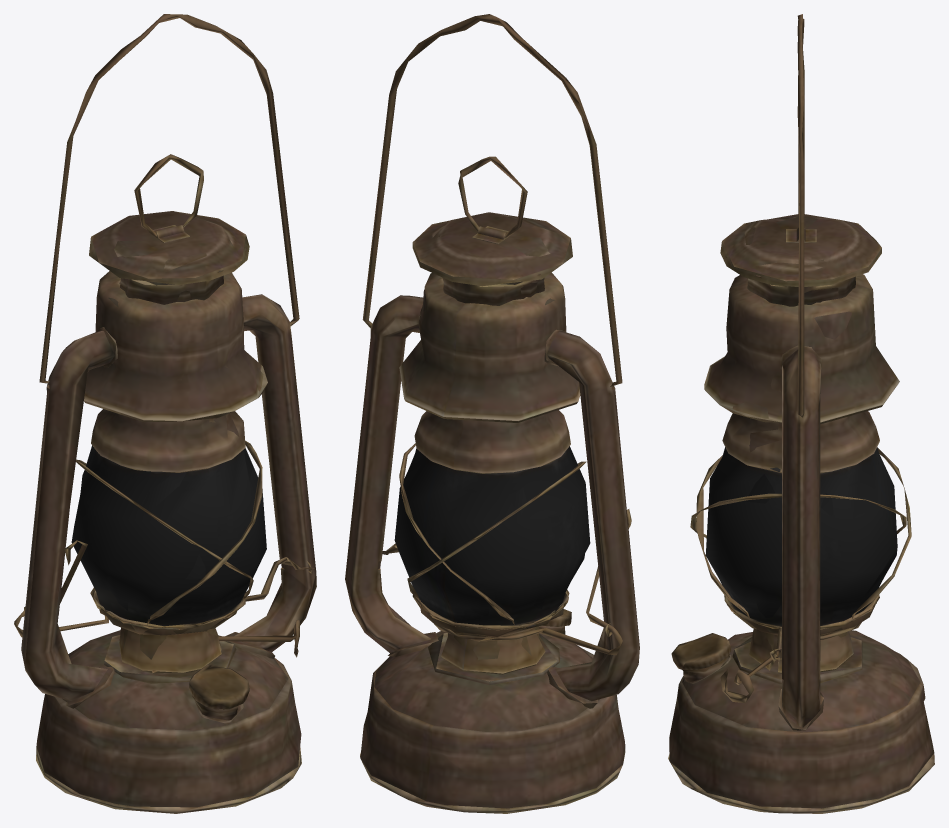
File: Lantern_01.glb
3 renders of one model, left to right at view 1: azimuth 30°, elevation 25°; view 2: azimuth 150°, elevation 25°; view 3: azimuth 270°, elevation 25°, orthographic.
Parts seen in each view (by area): view 1: Lantern_01_brass, Lantern_01_glass; view 2: Lantern_01_brass, Lantern_01_glass; view 3: Lantern_01_brass, Lantern_01_glass.
Part boxes in pixels (x1,y1,x2,y2): Lantern_01_brass: [14, 14, 316, 813]; Lantern_01_glass: [71, 445, 266, 626]; Lantern_01_brass: [345, 14, 639, 813]; Lantern_01_glass: [394, 446, 590, 628]; Lantern_01_brass: [668, 14, 934, 813]; Lantern_01_glass: [705, 447, 897, 625].
Bounding box in the file's own units: 0.1219 × 0.294 × 0.0958.
2 materials, 2 textured.
